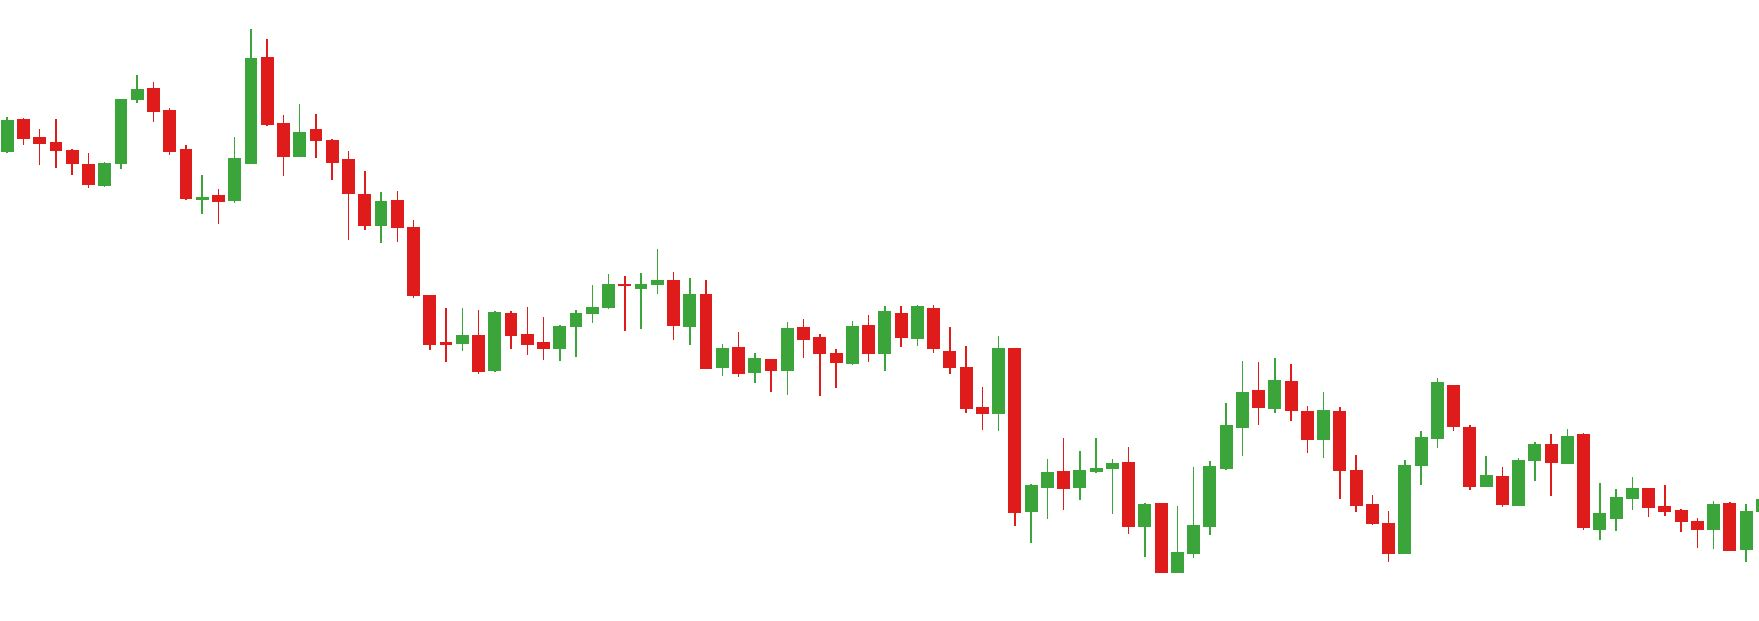sell: (111, 31, 276, 172), (1318, 377, 1459, 478)
